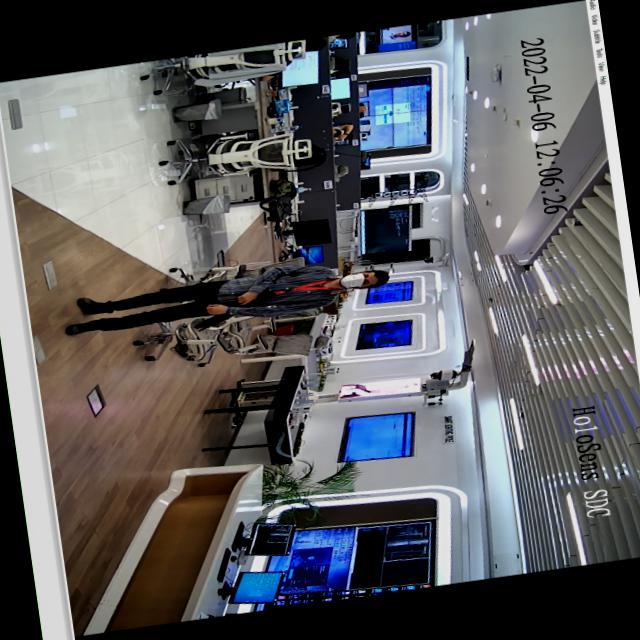long weapon: (184, 285, 282, 337)
